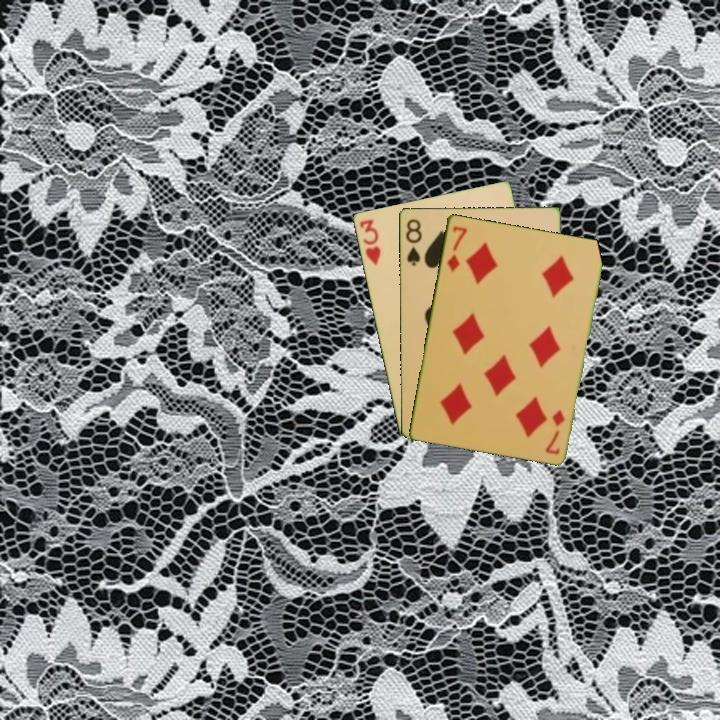3h: (356, 215, 383, 268)
7d: (443, 222, 470, 274), (542, 406, 568, 457)
8s: (402, 215, 424, 268)
